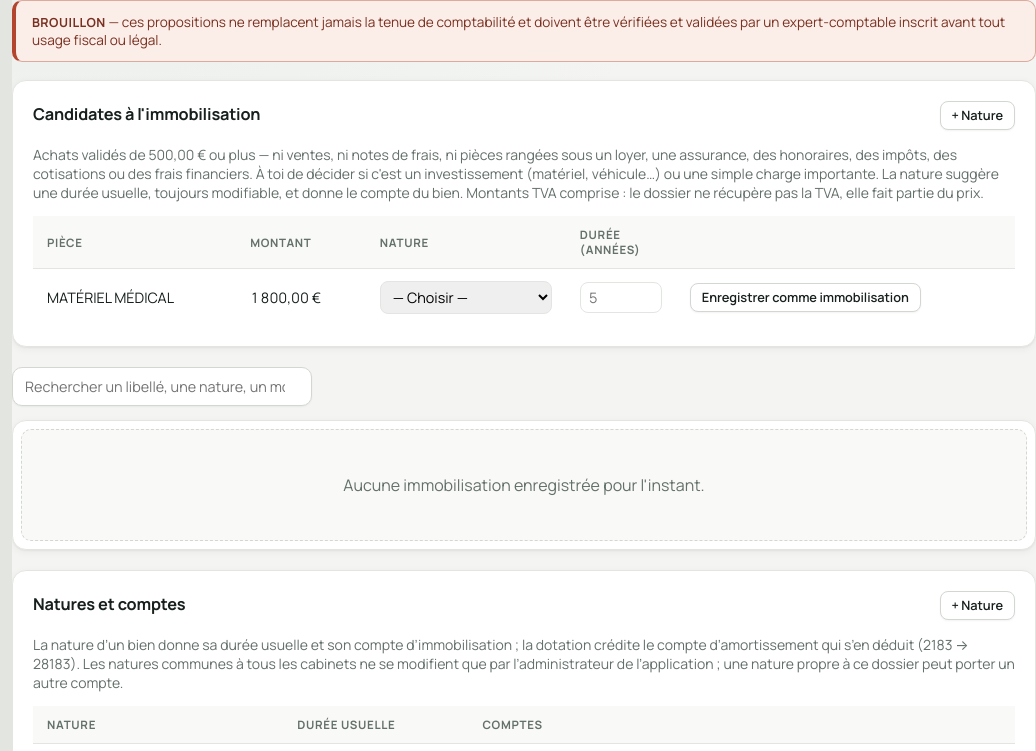
it: ImmobilisationsTab — enregistrer une candidate › refuse une durée « 0 », sans rien inscrire
Select "Fauteuil de soins" in the dropdown named "Nature de MATÉRIEL MÉDICAL" at (466, 298), box [380,281,552,314]
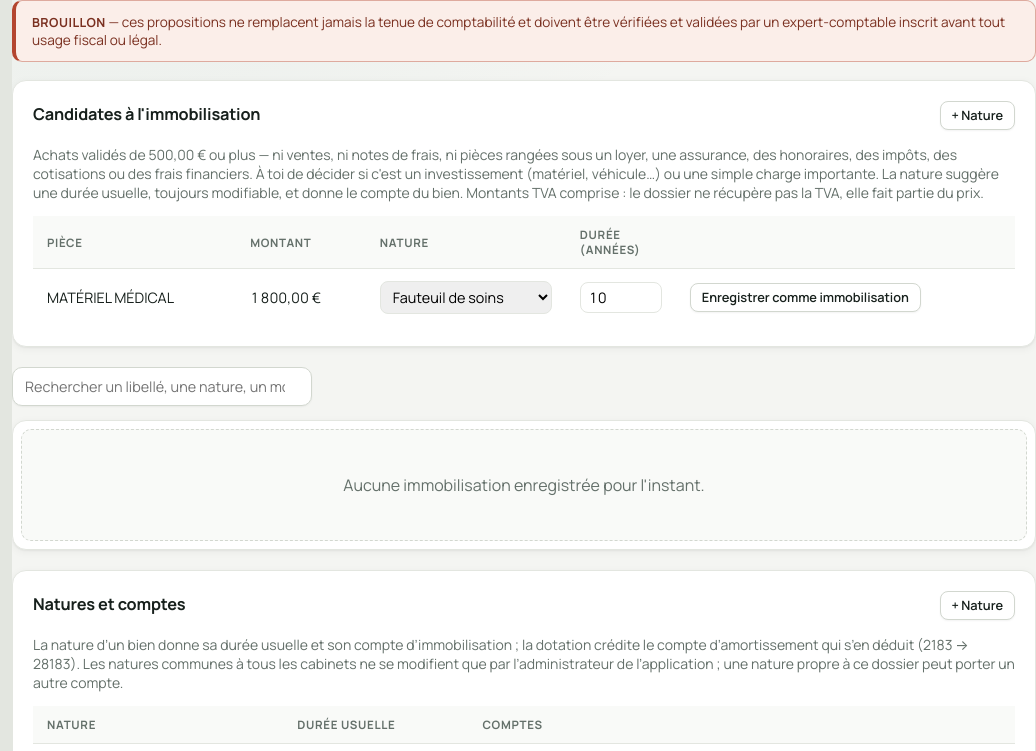
Replace the text in the number field named "Durée de MATÉRIEL MÉDICAL" with "0" at (621, 298), box [580,282,662,313]
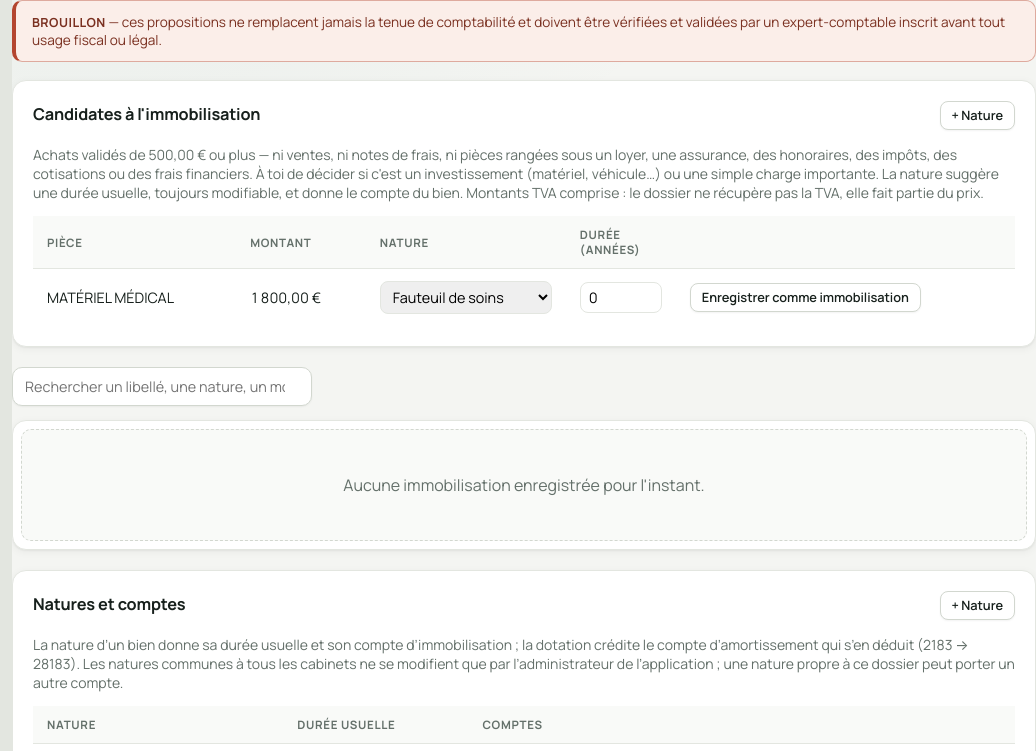
Click the button "Enregistrer comme immobilisation" at (805, 297), box [690,283,921,312]
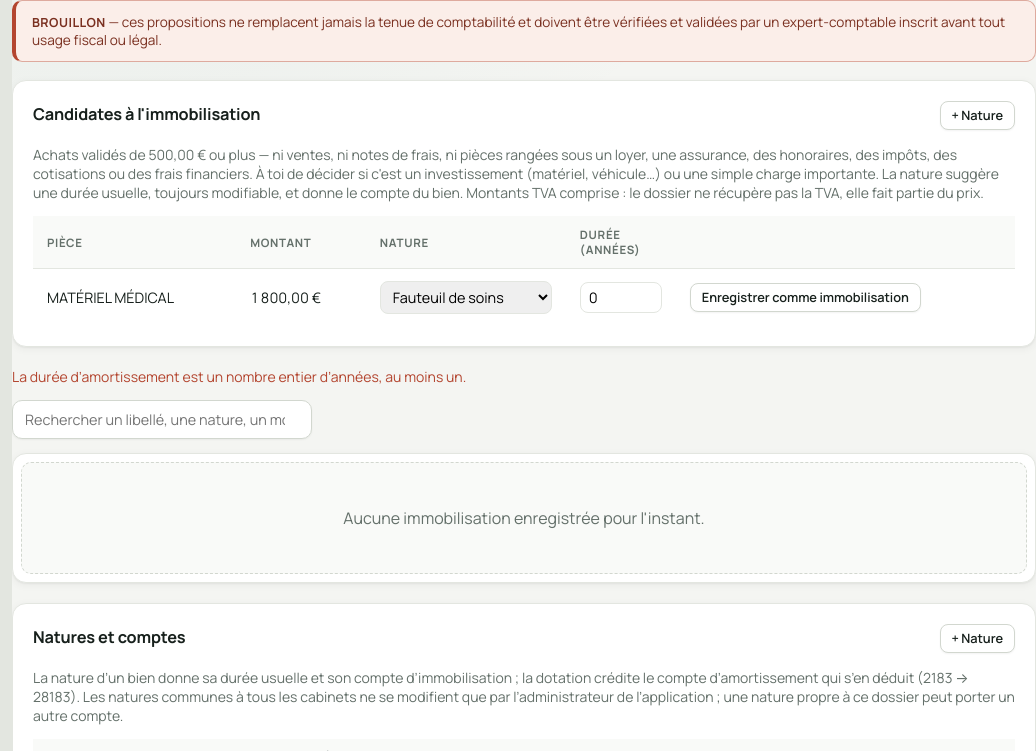
Expected: the text "La durée d’amortissement est un nombre entier d’années, au moins un." is shown, [12,367,466,386]
